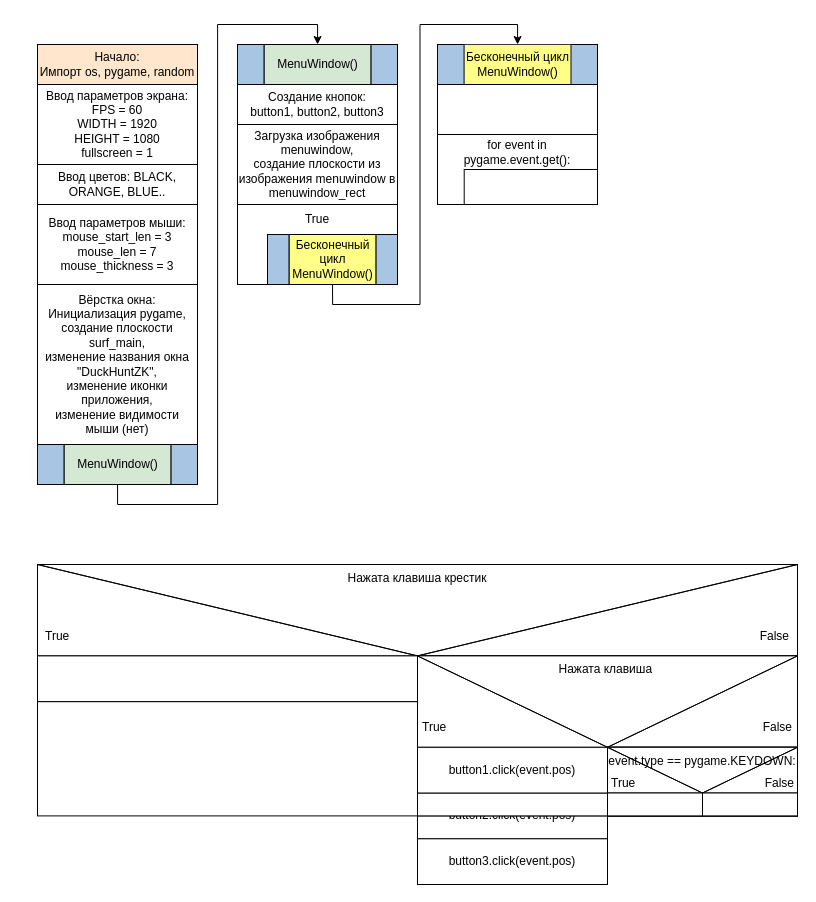
Some shapes in this 816 by 902 pixel diagram are drawn without their labels. The shapes that lost their labels are listed below. From the top down, each one's centre as x and y in pixels, then its label:
point (517, 109): Отрисовка плоскости menuwindow на плоскости surf_main
point (227, 678): quit()
